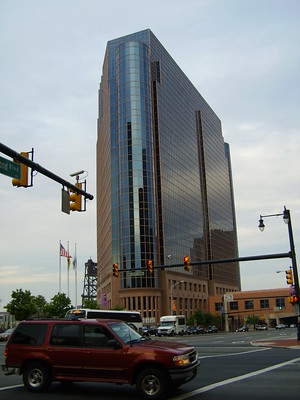low: (92, 26, 246, 328)
